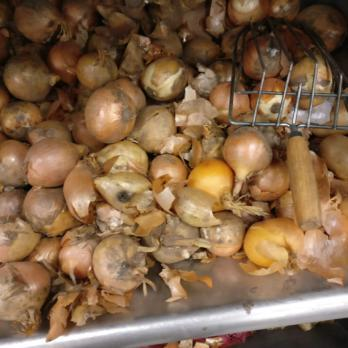Onion: (1, 0, 348, 287)
